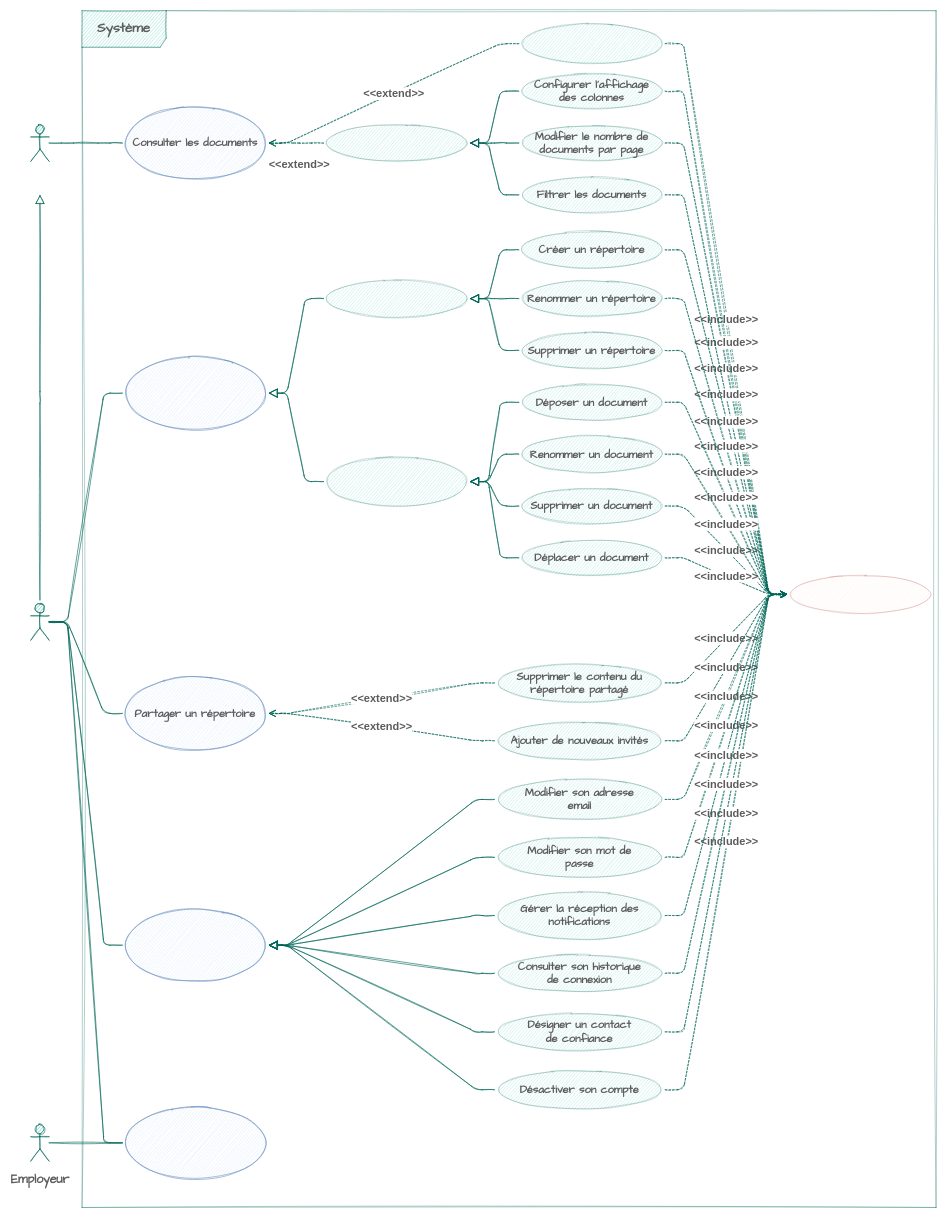
Image size: 947x1218. Some labels were removed from this diagram. Each missing label, with the box of its shape:
Classer les documents et les dossiers: (122, 356, 269, 430)
Géerer son compte: (122, 908, 269, 982)
Gérer les documents au sein d'un répertoire: (323, 457, 470, 506)
Gérer l’affichage des documents: (323, 124, 470, 161)
Organiser les répertoires: (323, 280, 470, 317)
Recevoir les bulletins de paie et les communications institutionnelles: (122, 1106, 269, 1179)
Rechercher un répertoire: (518, 23, 665, 63)
S'authentifier: (787, 576, 934, 613)
Salarié (Titulaire): (30, 603, 49, 640)
Utilisateur 1: (30, 124, 49, 161)
